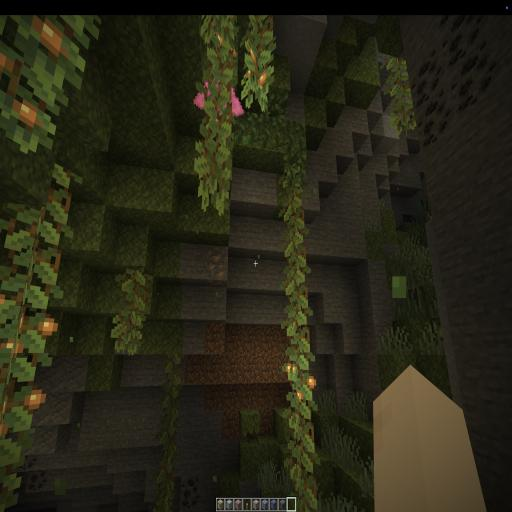coal ore: (404, 13, 508, 146), (10, 445, 55, 512), (153, 465, 201, 512)
iron ore: (206, 246, 232, 285)
